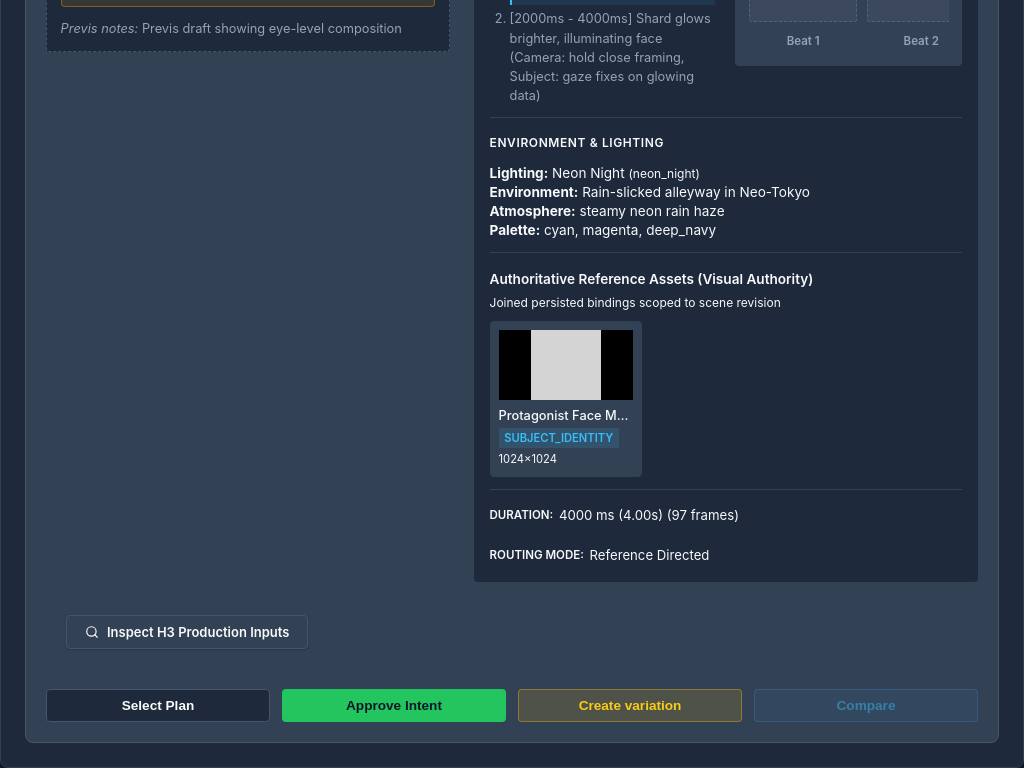
Test: ShotPlanPanel Component › Directed ShotPlan Variations UX › opens variation modal with chosen source variant identity when clicked
(page scrolled)
// Click Create variation
Step 1. Click the button with test id "shot-plan-create-variation-button" → (630, 705), box [518,689,742,722]
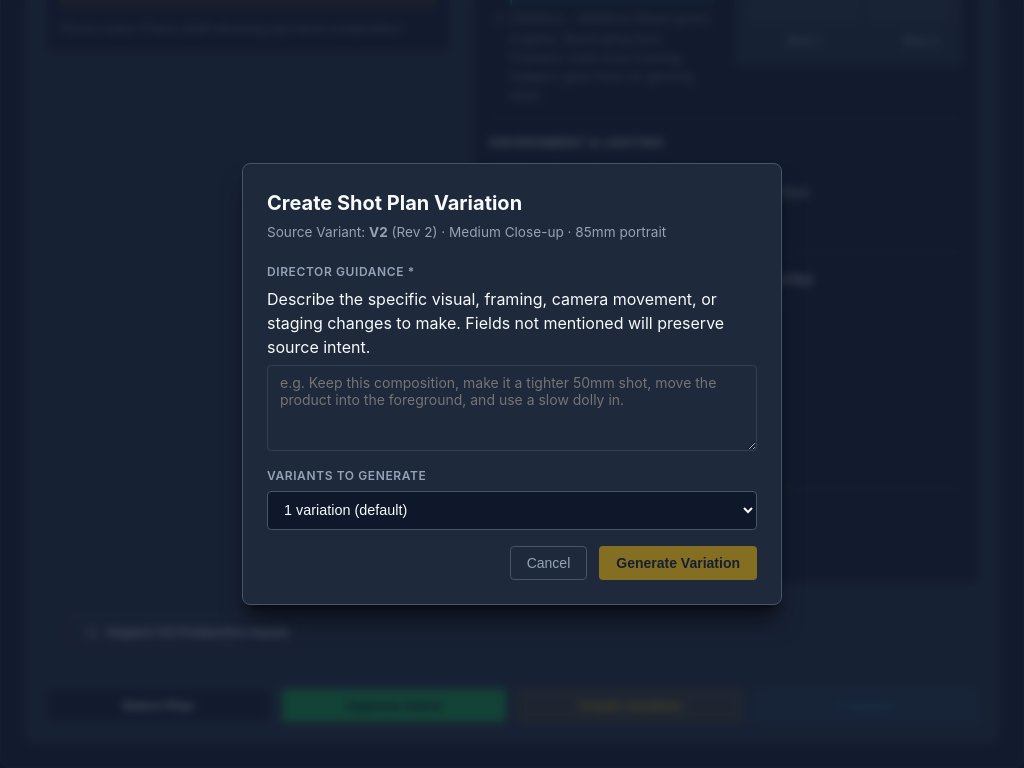
Check: the dialog with test id "shot-plan-variation-modal" is shown, box [242,163,782,605]
Check: the element with test id "variation-source-identity" shows "Source Variant: V2 (Rev 2)", box [267,224,666,240]
Check: the element with test id "variation-source-identity" shows "85mm portrait", box [575,224,666,240]
